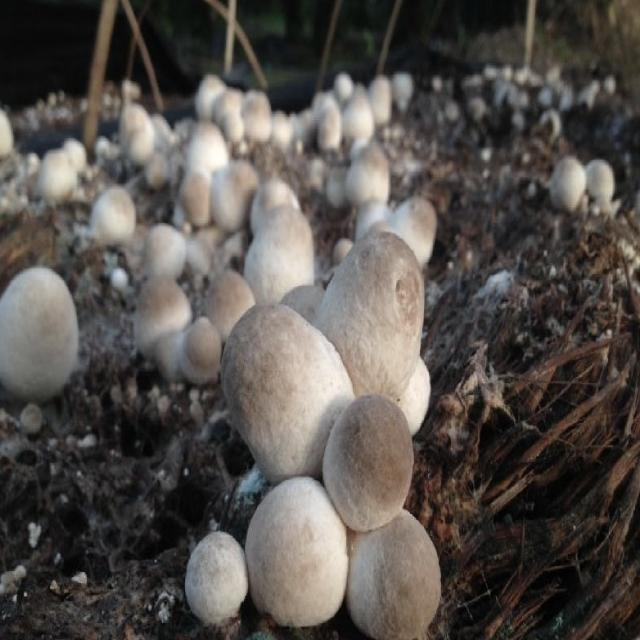Mushroom: (225, 231, 440, 634), (224, 298, 349, 482), (250, 472, 347, 624), (321, 396, 412, 526)
